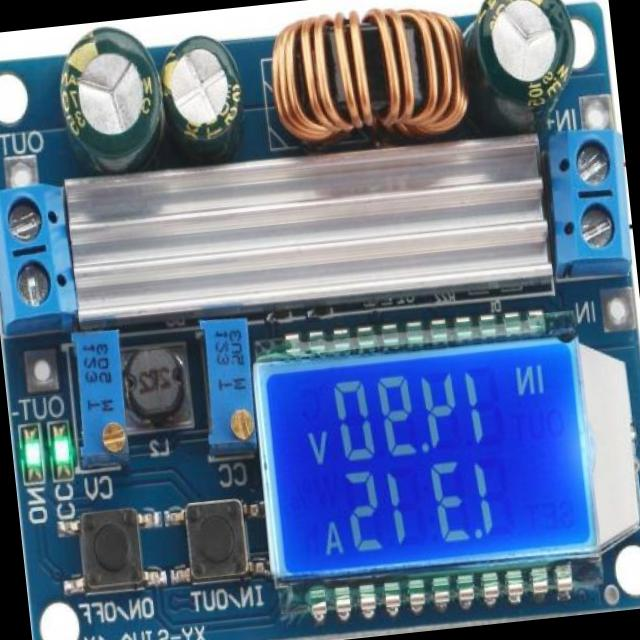capacitor: (47, 22, 168, 180), (460, 0, 588, 130), (152, 26, 250, 162)
connector: (540, 120, 637, 282), (0, 173, 75, 334)
potentiometer: (191, 309, 261, 463), (61, 326, 132, 474)
